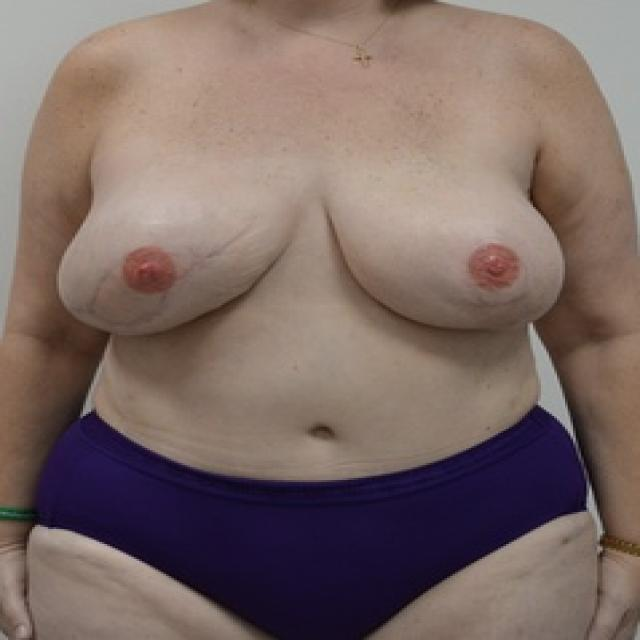Seno herido: (48, 132, 309, 349), (317, 132, 576, 349)
